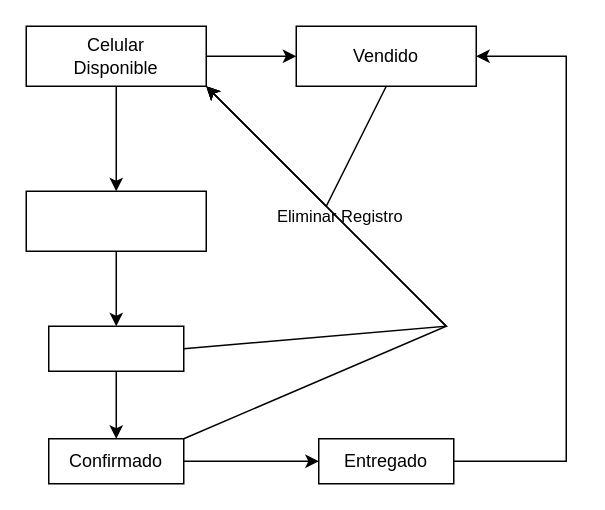
This 605x510 diagram has some shape labels left out. The shapes that lost their labels are listed below. From the top down, each one's box as (x1, y1, x2, y2) in pixels, then its label:
(25, 190, 206, 251): Reservar
(47, 325, 184, 371): Reservado
